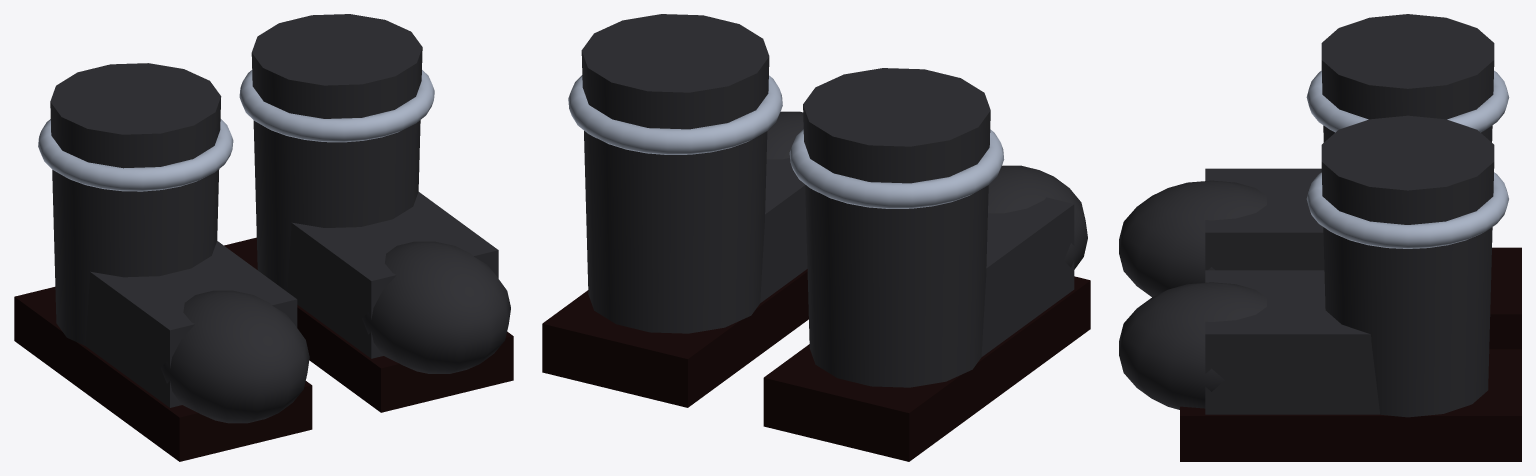
Rendered from shoes_cool_0.glb.
3 renders of one model, left to right at view 1: azimuth 30°, elevation 25°; view 2: azimuth 150°, elevation 25°; view 3: azimuth 270°, elevation 25°, orthographic. The views are drawn at different scales.
Size of the model in its own units: 0.35 by 0.24 by 0.3181.
